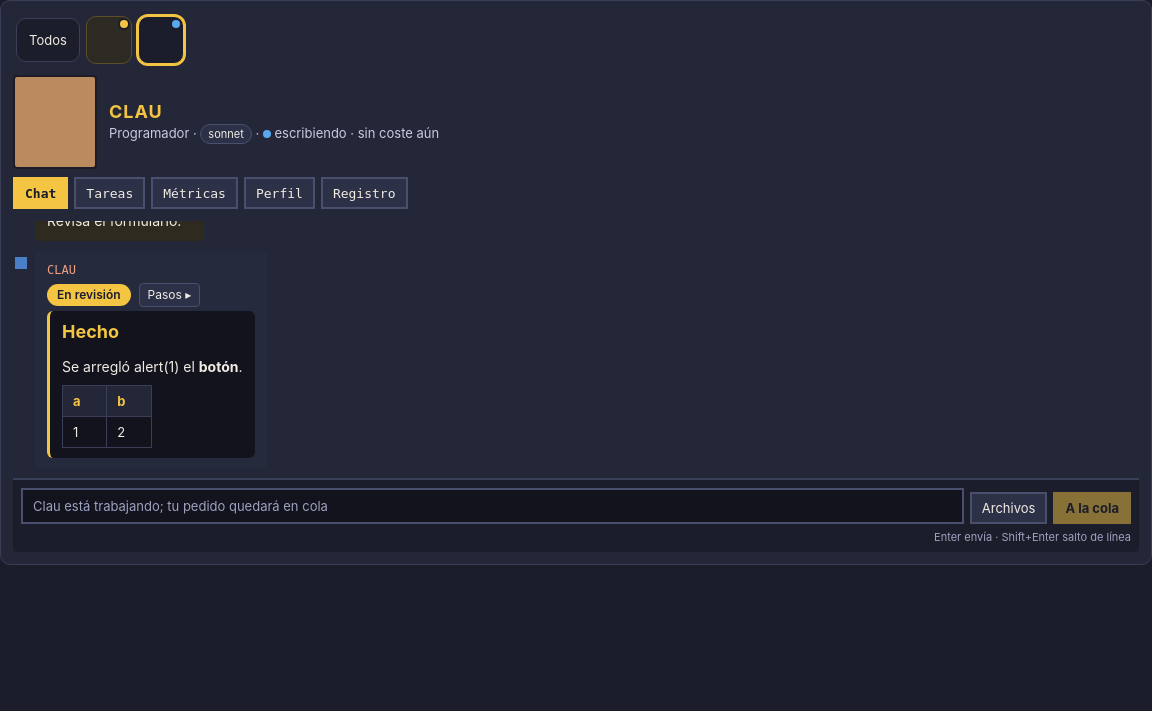
Test: AgentTabs › los pasos se piden al desplegar y se muestran con ✓/✗
(page scrolled)
Click the tab "Tareas" at (110, 193), box left=74, top=177, right=145, bottom=209
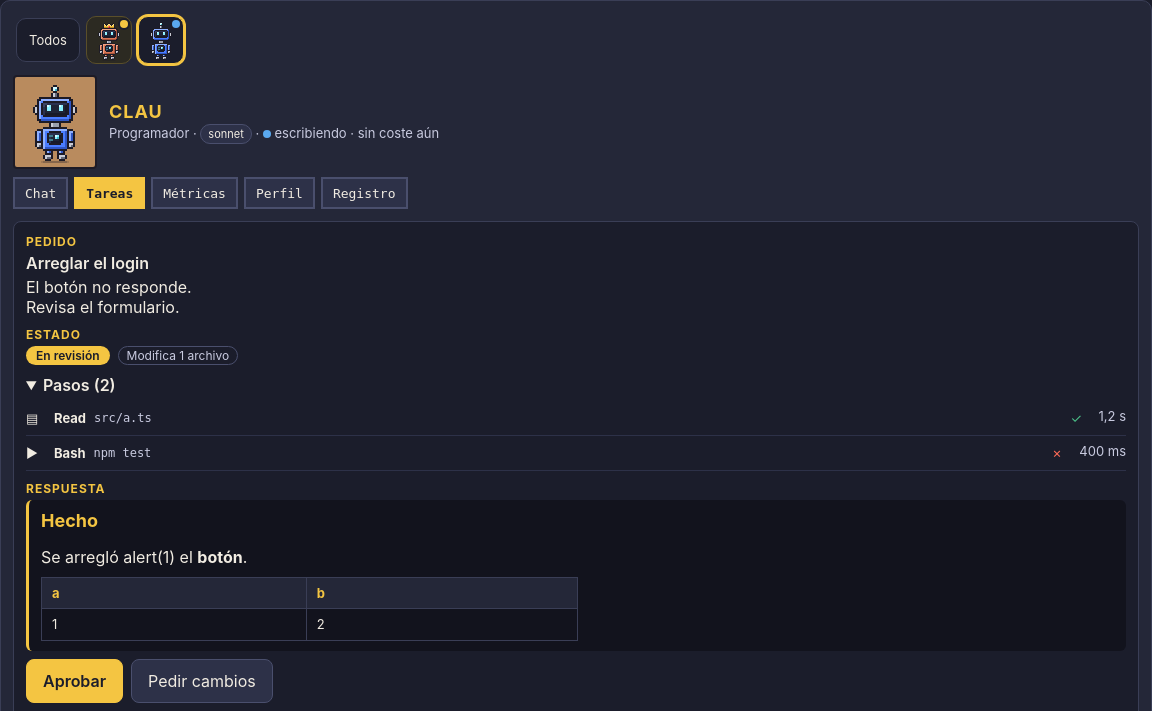
Check: the text "npm test" is shown, box left=94, top=446, right=151, bottom=460
Check: the text named "correcto" is shown, box left=1070, top=410, right=1082, bottom=426
Check: the text named "falló" is shown, box left=1051, top=445, right=1063, bottom=461
